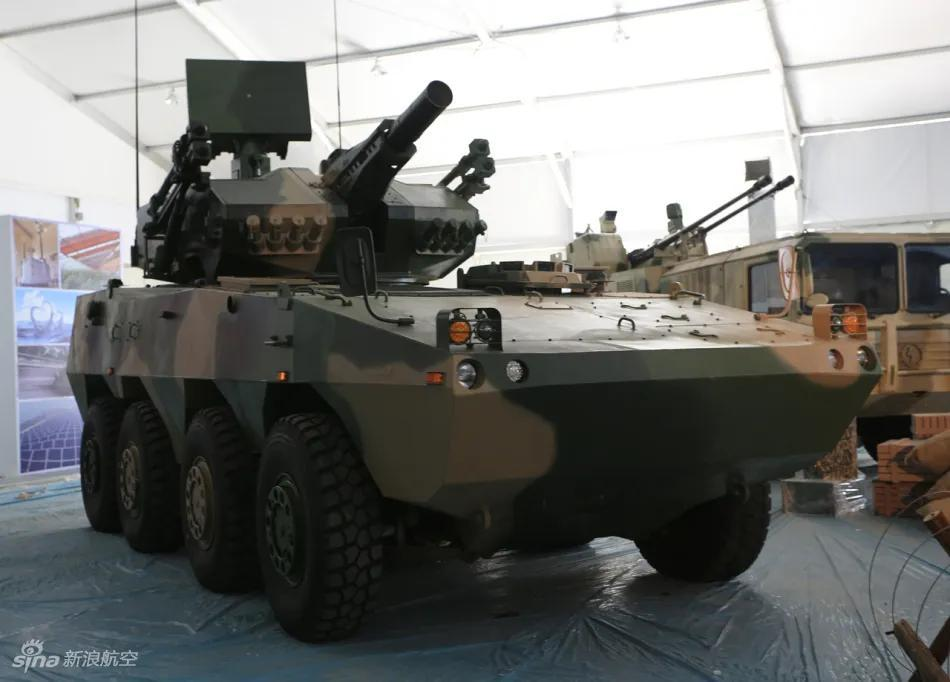MIL_IFV: (66, 55, 883, 643)
